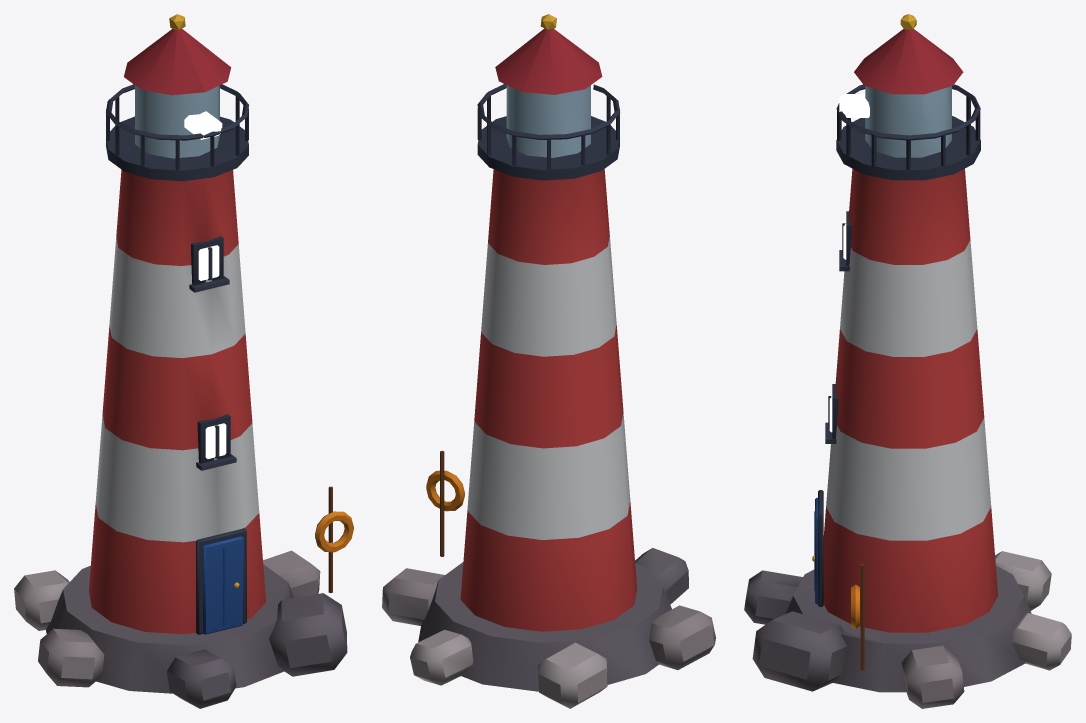
Rendered from lm_kueste.glb.
The picture shows the model from 3 angles, left to right: view 1: azimuth 30°, elevation 25°; view 2: azimuth 150°, elevation 25°; view 3: azimuth 270°, elevation 25°; orthographic projection.
Parts seen in each view (by area): view 1: body, win_glow, spin_light_glow; view 2: body; view 3: body, spin_light_glow.
Boxes of the visible parts, x1,y1,x2,y2 form: body: [14, 14, 353, 708]; win_glow: [198, 245, 226, 458]; spin_light_glow: [184, 111, 222, 139]; body: [382, 14, 715, 708]; body: [744, 14, 1071, 708]; spin_light_glow: [839, 94, 869, 117].
Size of the model in its own units: 5.96 by 12.06 by 5.67.
